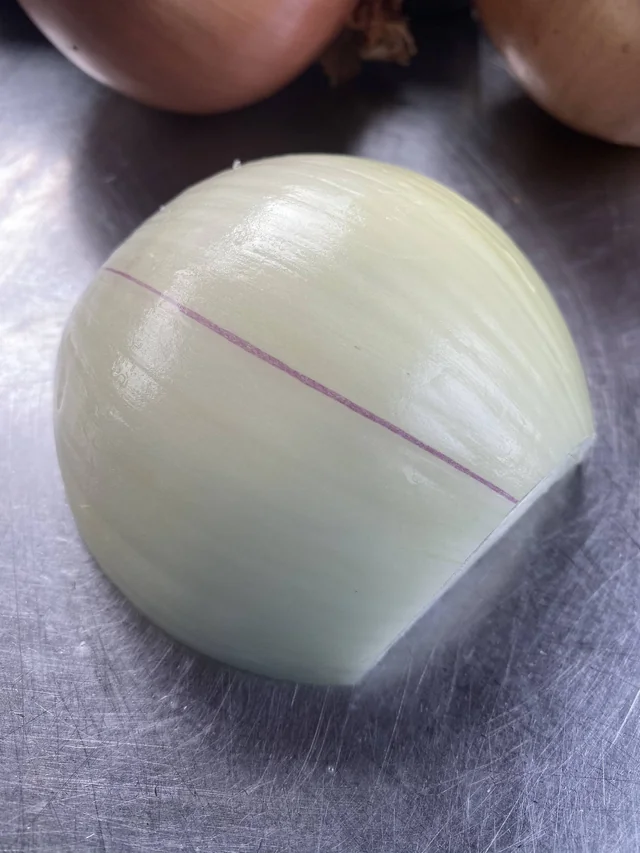onion: (49, 123, 598, 726)
